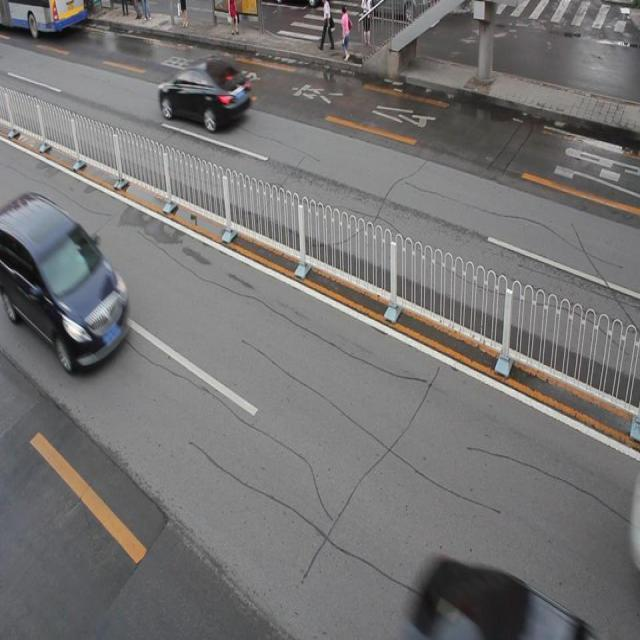car: (406, 553, 579, 640), (158, 56, 253, 130)
truck: (1, 190, 129, 367)
